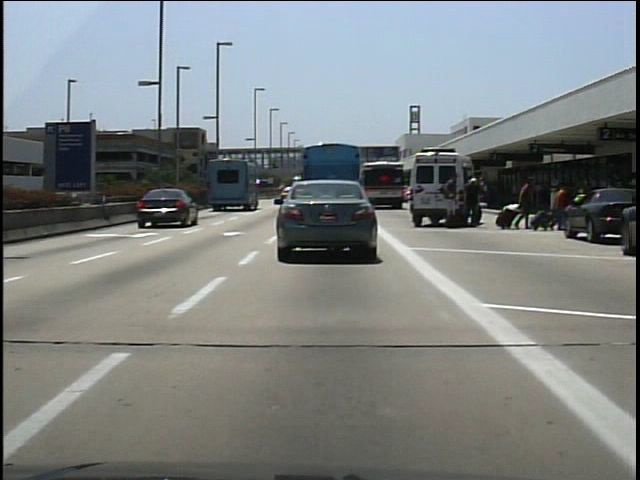person: (514, 174, 539, 235), (439, 169, 462, 230), (461, 174, 484, 229), (550, 181, 570, 234)
